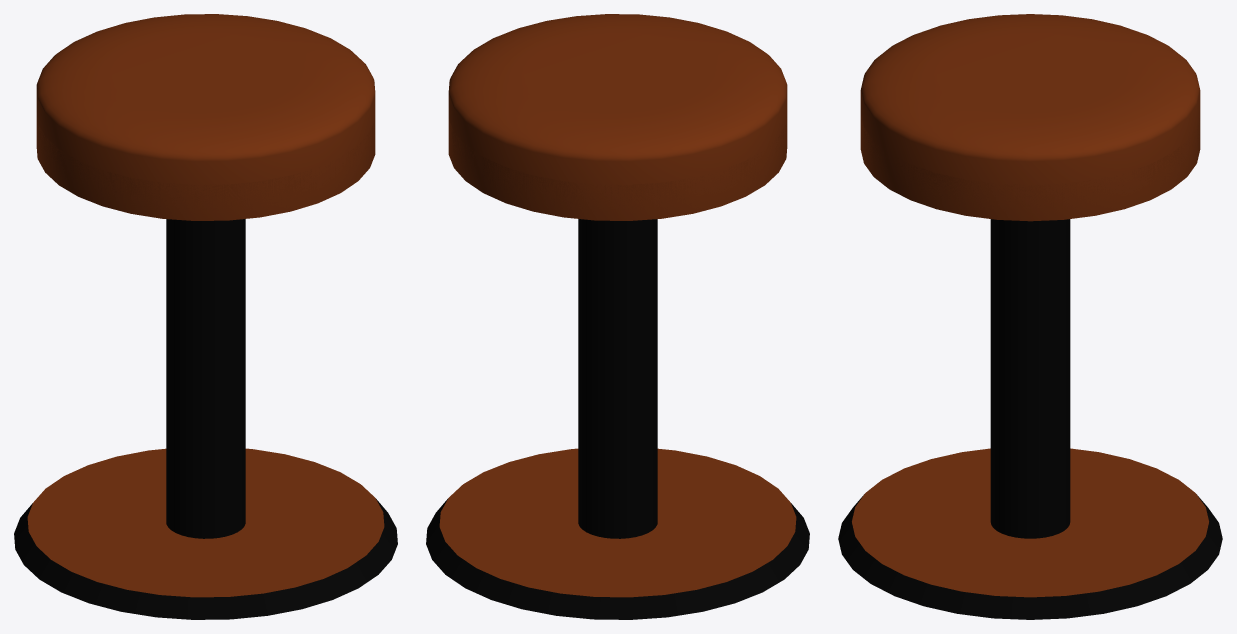
The model's file is stool.fbx.
The picture shows the model from 3 angles, left to right: view 1: azimuth 30°, elevation 25°; view 2: azimuth 150°, elevation 25°; view 3: azimuth 270°, elevation 25°; orthographic projection.
Parts seen in each view (by area): view 1: stool; view 2: stool; view 3: stool.
Boxes of the visible parts, left/top/right/bottom form: stool: left=14, top=14, right=397, bottom=619; stool: left=426, top=14, right=809, bottom=619; stool: left=838, top=14, right=1222, bottom=619.
Size of the model in its own units: 257 by 343 by 257.
